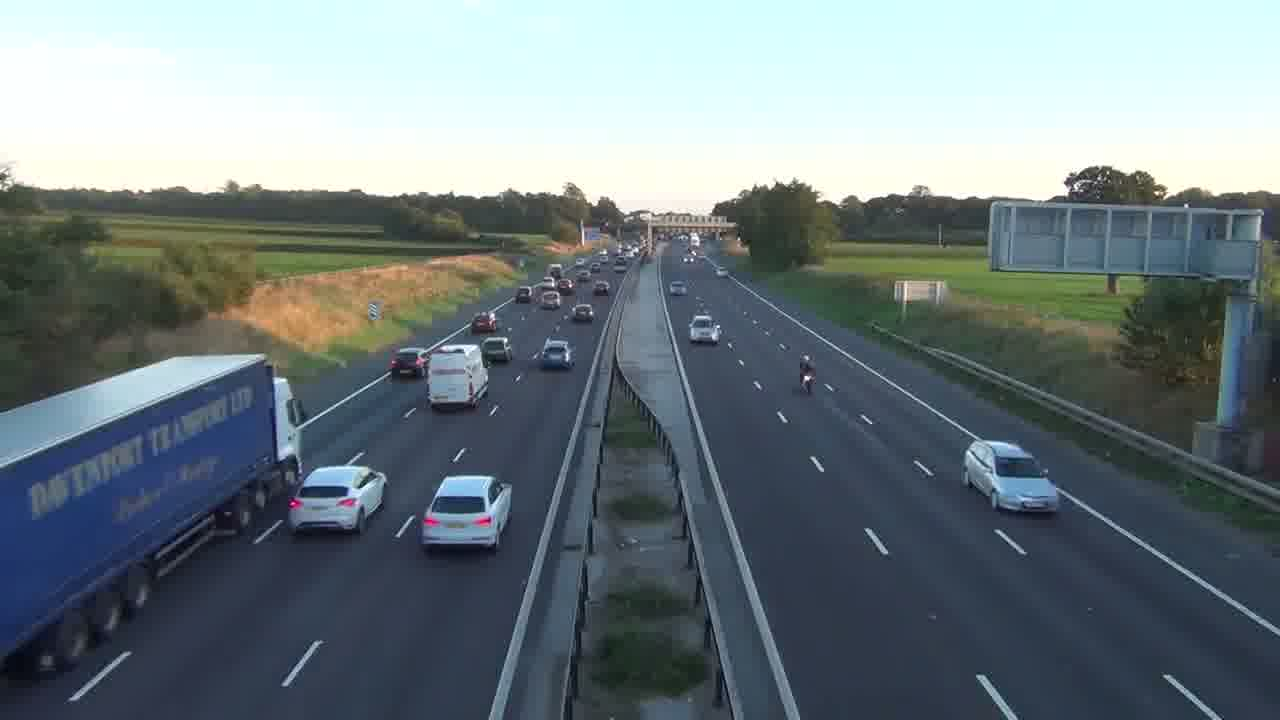car: (962, 439, 1060, 515), (419, 474, 513, 552), (288, 464, 387, 536), (540, 337, 575, 369), (688, 314, 722, 346), (389, 347, 422, 379), (481, 336, 512, 364), (571, 303, 595, 324), (669, 280, 688, 295), (593, 281, 610, 296)
truck: (0, 352, 304, 678), (1, 352, 304, 678)
